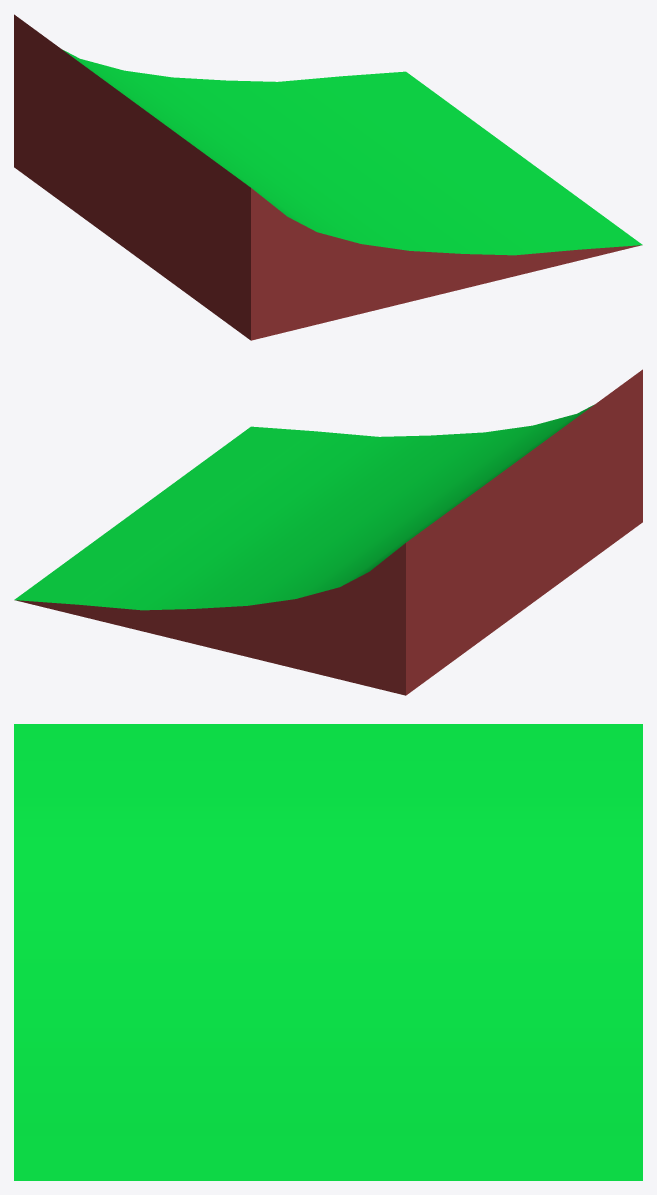
Rendered from 45_degree_ramp (1).fbx.
3 views of the same model, one above another, from view 1: azimuth 30°, elevation 25°; view 2: azimuth 150°, elevation 25°; view 3: azimuth 270°, elevation 25° (orthographic). The views are drawn at different scales.
Parts seen in each view (by area): view 1: _degree_ramp1:pCylinder1; view 2: _degree_ramp1:pCylinder1; view 3: _degree_ramp1:pCylinder1.
Part boxes in pixels (box(x1,y1,x2,y2)): _degree_ramp1:pCylinder1: box(14, 14, 642, 340); _degree_ramp1:pCylinder1: box(14, 369, 642, 695); _degree_ramp1:pCylinder1: box(14, 724, 642, 1180).
Bounding box in the file's own units: 1.91 × 0.7123 × 2.
